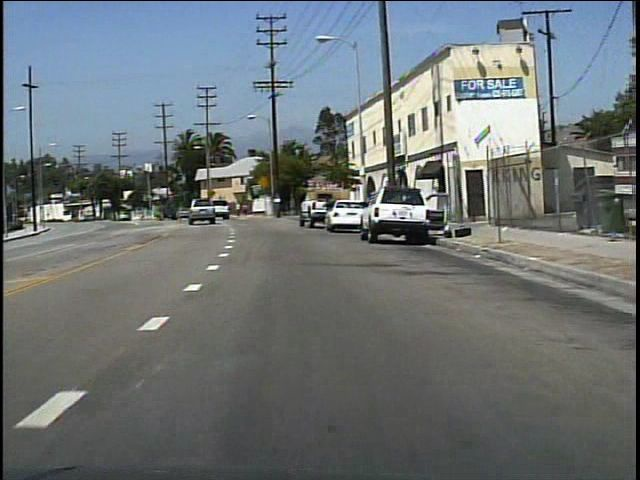person: (320, 194, 339, 231), (234, 199, 243, 220), (242, 202, 251, 219)
